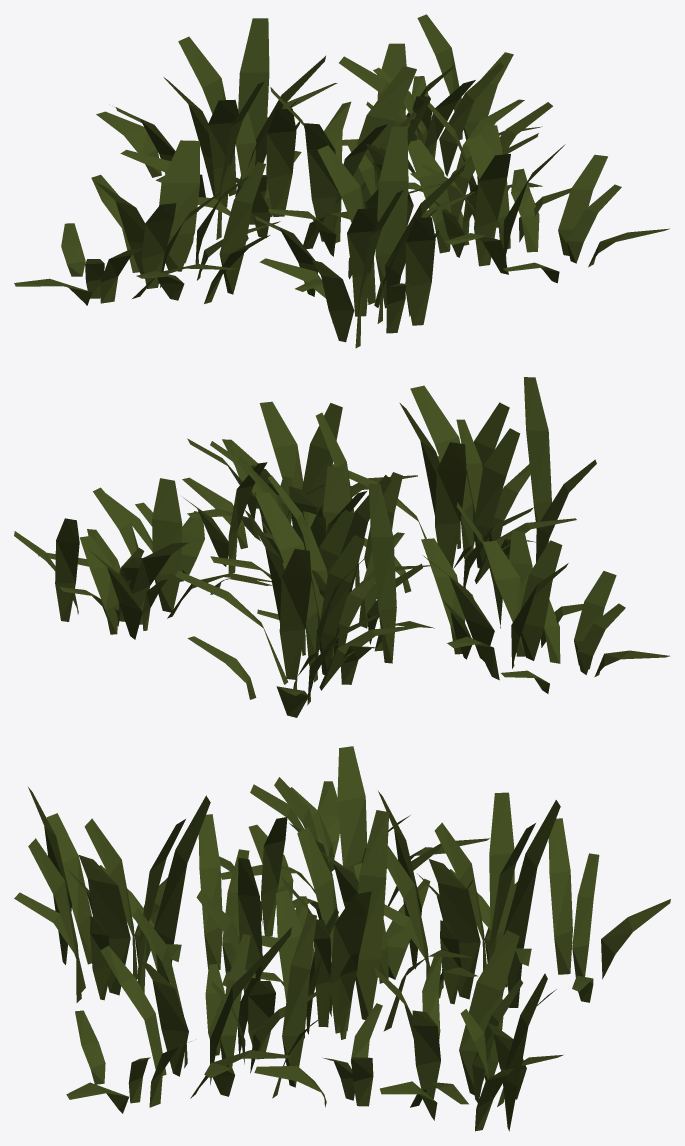
The model's file is SM_Grass_Medium_B.fbx.
The picture shows the model from 3 angles, top to bottom: view 1: azimuth 30°, elevation 25°; view 2: azimuth 150°, elevation 25°; view 3: azimuth 270°, elevation 25°; orthographic projection. The views are drawn at different scales.
Parts seen in each view (by area): view 1: grass-medium-b; view 2: grass-medium-b; view 3: grass-medium-b.
Part boxes in pixels (x1,y1,x2,y2): grass-medium-b: (14, 14, 669, 348); grass-medium-b: (14, 377, 669, 717); grass-medium-b: (14, 746, 670, 1131).
Size of the model in its own units: 1.3 by 0.3637 by 1.08.
